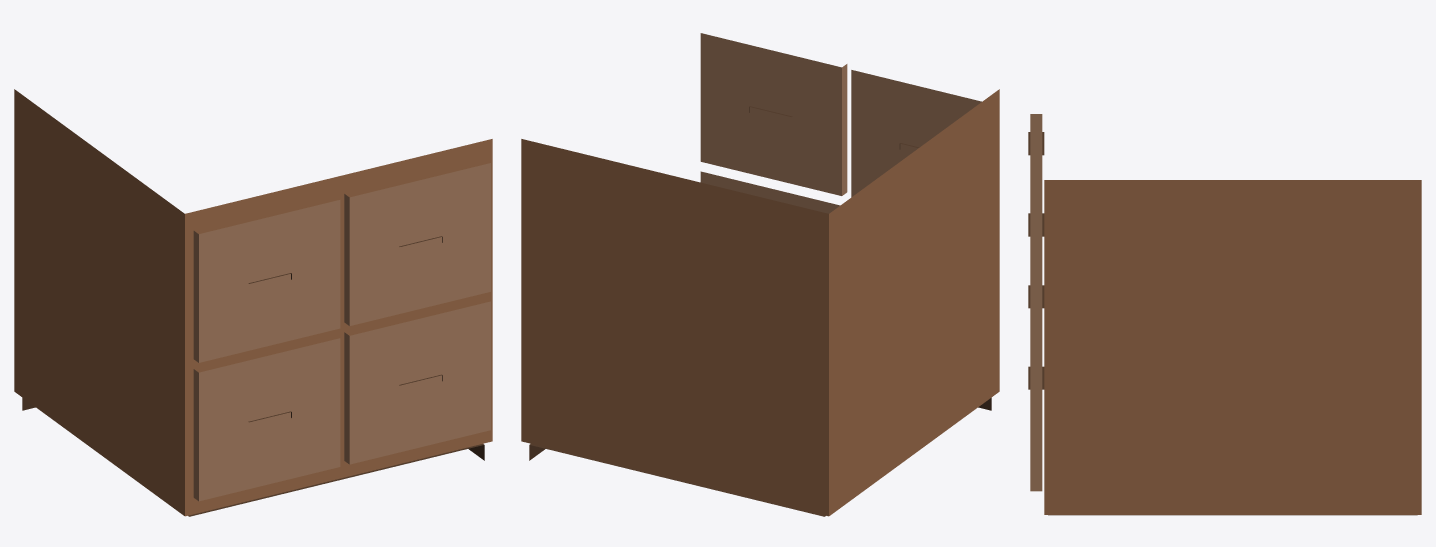
File: Storage-teak.glb
The picture shows the model from 3 angles, left to right: view 1: azimuth 30°, elevation 25°; view 2: azimuth 150°, elevation 25°; view 3: azimuth 270°, elevation 25°; orthographic projection. The views are drawn at different scales.
Visible parts, largest first — view 1: Storage; view 2: Storage; view 3: Storage.
Part boxes in pixels (bbox=[...]): Storage: bbox=[14, 89, 492, 516]; Storage: bbox=[521, 33, 999, 516]; Storage: bbox=[1028, 114, 1421, 515].
Bounding box in the file's own units: 1 × 1 × 1.
